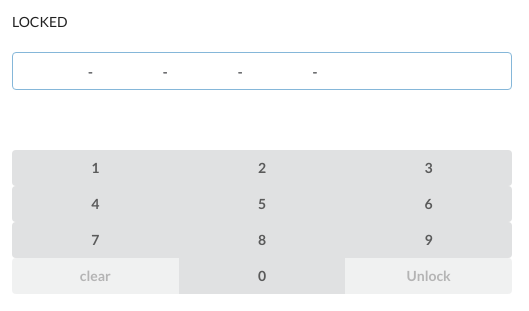
If you attempt to unlock and the entry is incorrect, display a message: “Incorrect entry” and clear the input
Check: the button "Unlock" is disabled, box [345,258,512,294]
Type "1111" into the password field with placeholder "----" at (262, 71), box [12,52,512,90]
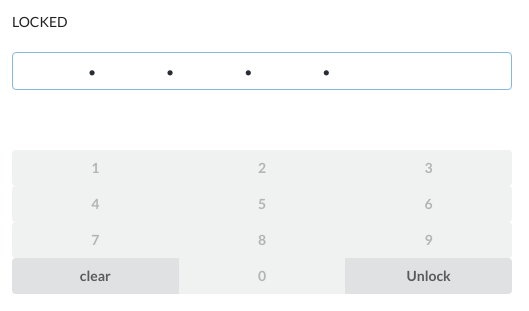
Check: the button "Unlock" is enabled
Click the button "Unlock" at (429, 276), box [345,258,512,294]
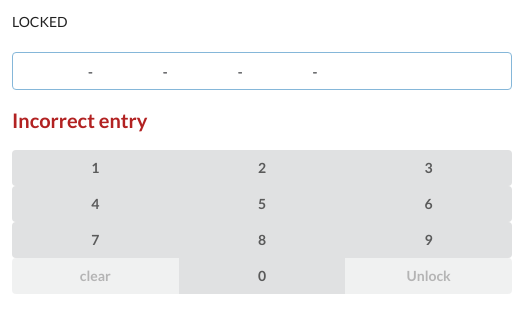
Check: the button "Unlock" is disabled, box [345,258,512,294]
Check: the password field with placeholder "----" is empty, box [12,52,512,90]
Check: the text "Incorrect entry" is shown, box [12,108,147,132]
